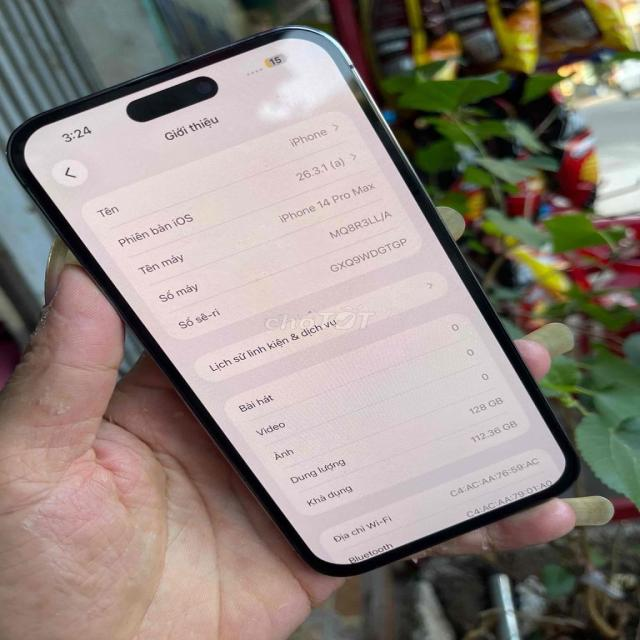gen_14: (12, 19, 582, 570)
